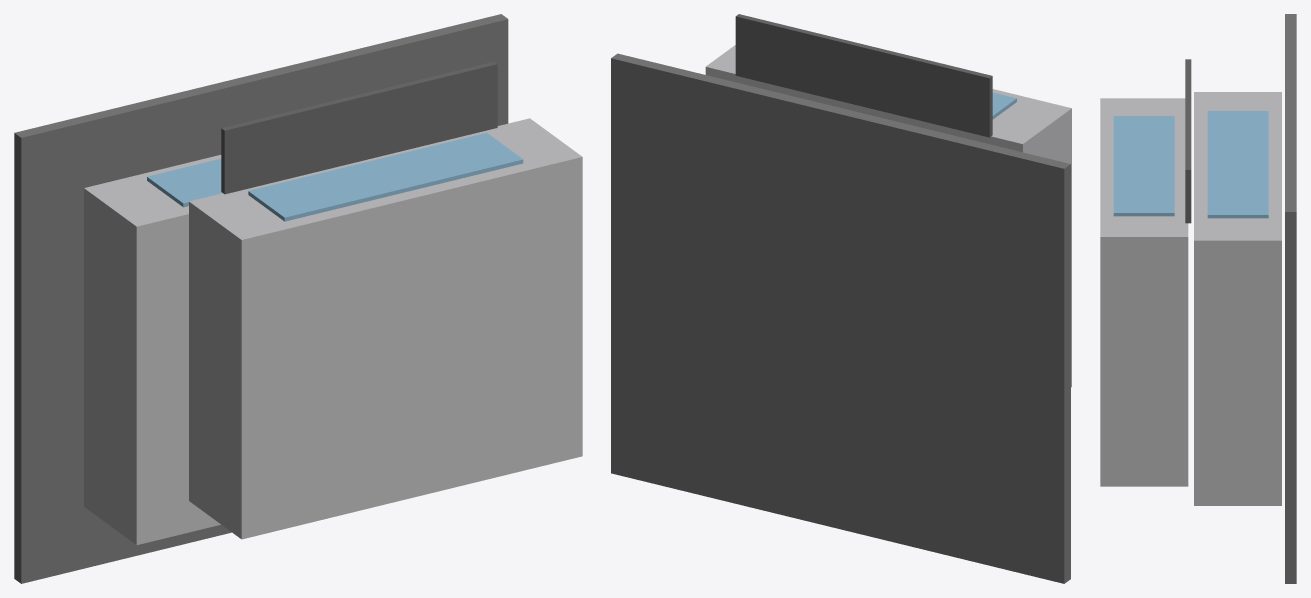
Rendered from 797d2b58-85fd-4dac-9fcb-73dfc3b9f261.glb.
3 views of the same model, side by side, from view 1: azimuth 30°, elevation 25°; view 2: azimuth 150°, elevation 25°; view 3: azimuth 270°, elevation 25° (orthographic). The views are drawn at different scales.
Parts seen in each view (by area): view 1: geometry_3, geometry_0, geometry_1, geometry_5, geometry_4, geometry_2; view 2: geometry_0, geometry_5, geometry_3; view 3: geometry_1, geometry_3, geometry_0, geometry_2, geometry_4, geometry_5.
Boxes of the visible parts, <box> form: geometry_3: <box>189,118,582,539</box>; geometry_0: <box>14,14,508,583</box>; geometry_1: <box>84,155,221,544</box>; geometry_5: <box>221,61,497,194</box>; geometry_4: <box>248,132,523,221</box>; geometry_2: <box>147,158,222,207</box>; geometry_0: <box>611,53,1070,583</box>; geometry_5: <box>735,14,992,137</box>; geometry_3: <box>705,45,1071,387</box>; geometry_1: <box>1194,92,1281,505</box>; geometry_3: <box>1100,98,1188,486</box>; geometry_0: <box>1285,14,1296,583</box>; geometry_2: <box>1207,111,1268,218</box>; geometry_4: <box>1113,116,1174,216</box>; geometry_5: <box>1185,59,1191,223</box>.
Bounding box in the file's own units: 16 × 14.5 × 6.7.
